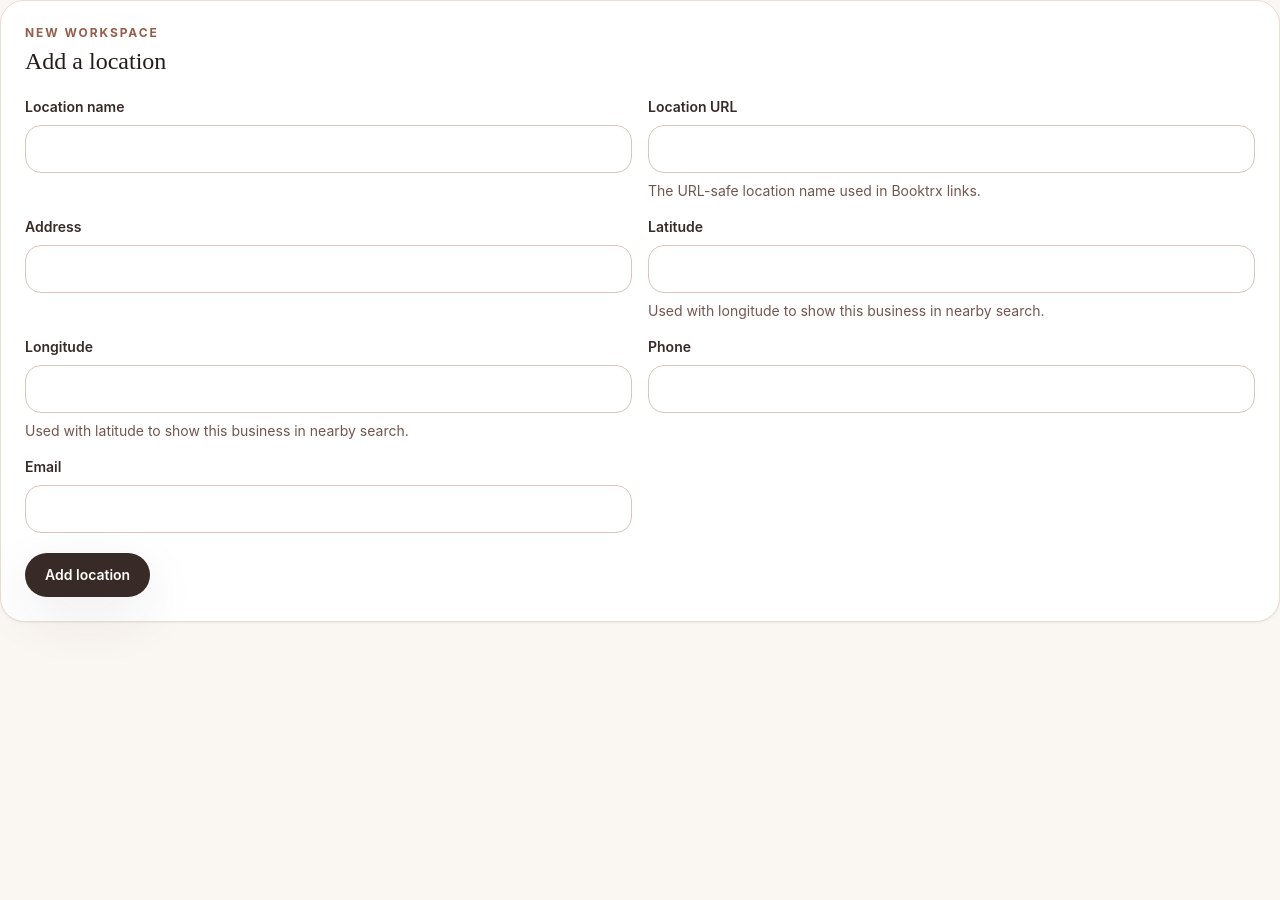
Test: location form feedback › announces field errors semantically and keeps entered values
Type "Rodney Bay" into the field labelled "Location name".
click(328, 149); type("Rodney Bay")  # box [25,125,632,173]
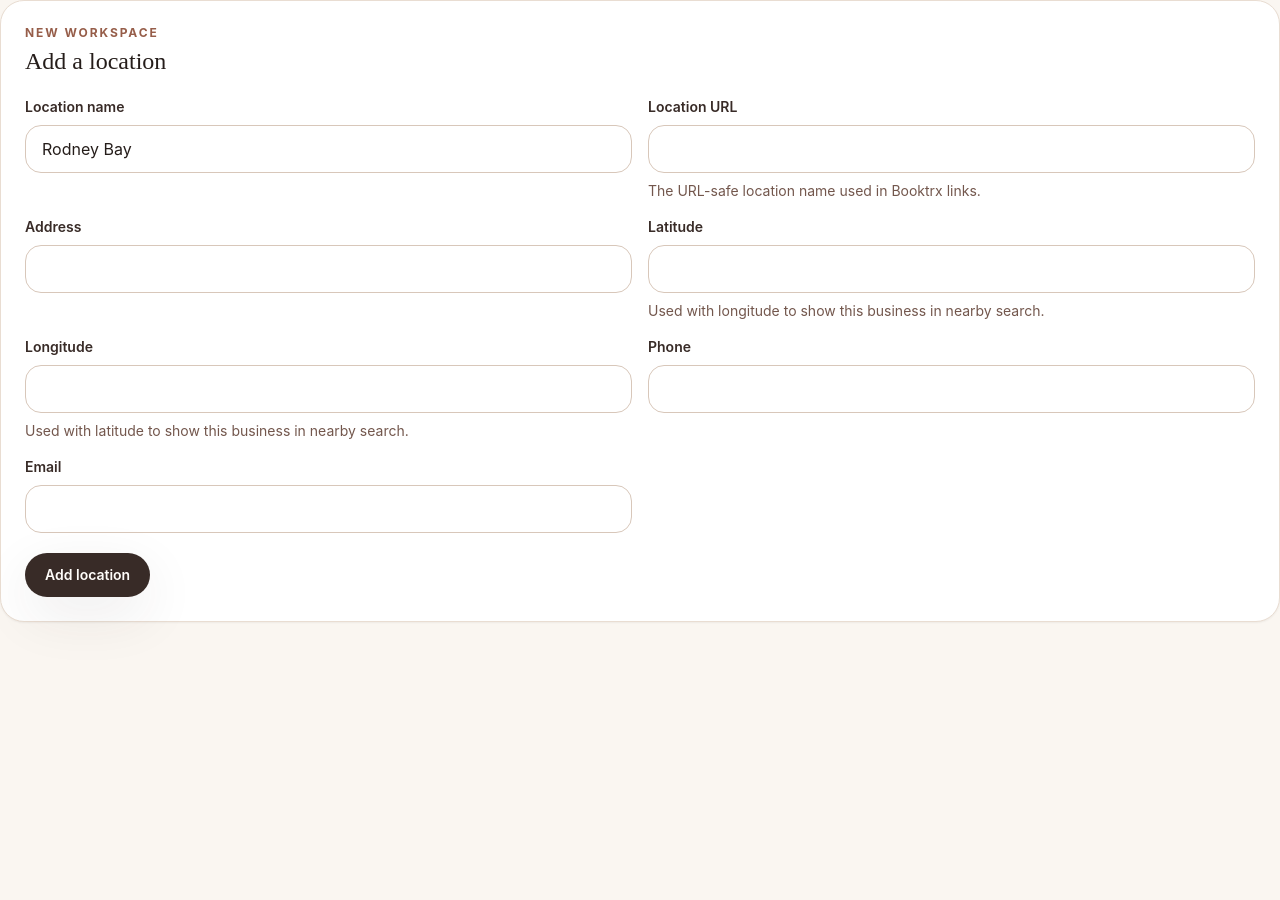
Type "rodney-bay" into the field labelled "Location URL".
click(952, 149); type("rodney-bay")  # box [648,125,1255,173]
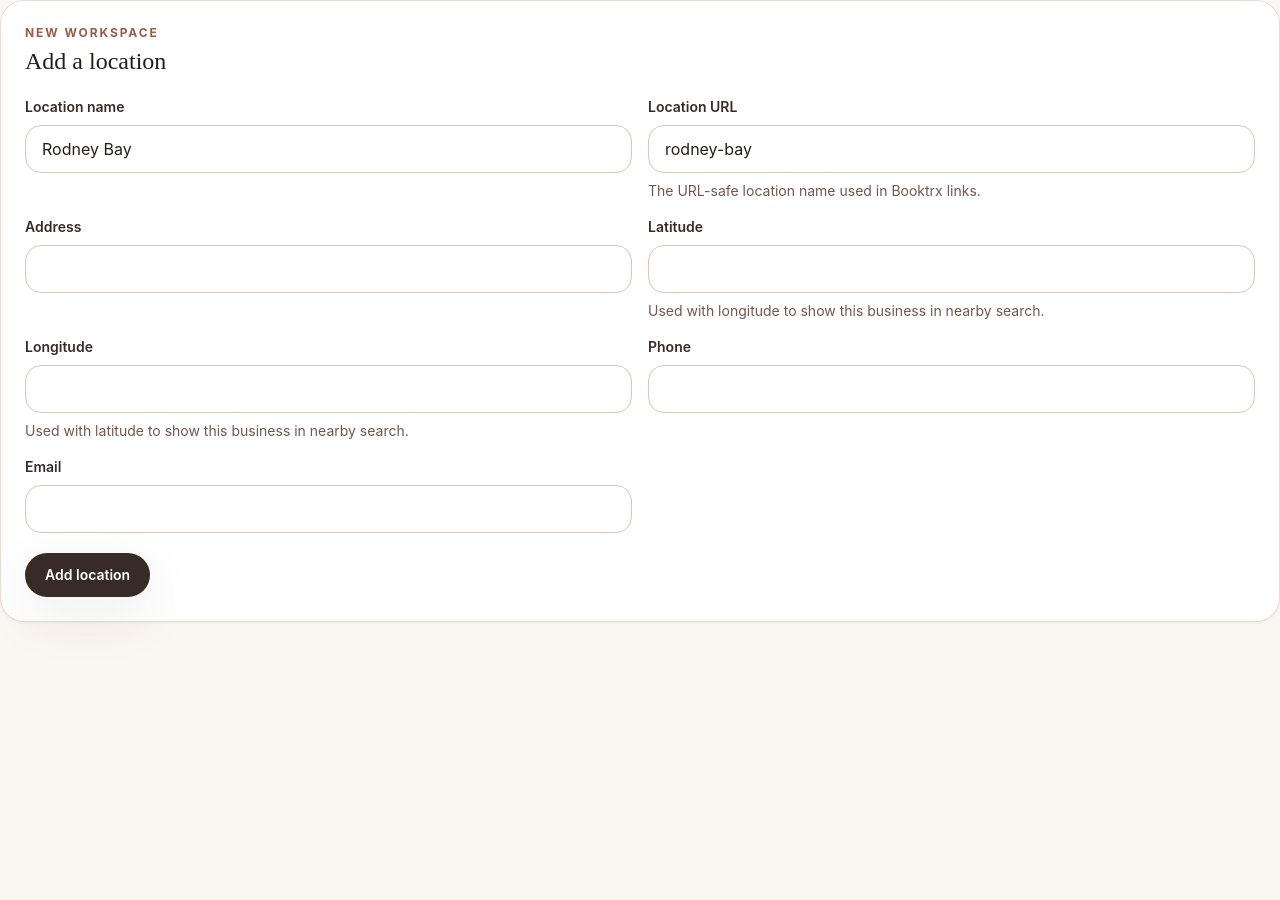
Type "Baywalk Mall" into the field labelled "Address".
click(328, 269); type("Baywalk Mall")  # box [25,245,632,293]
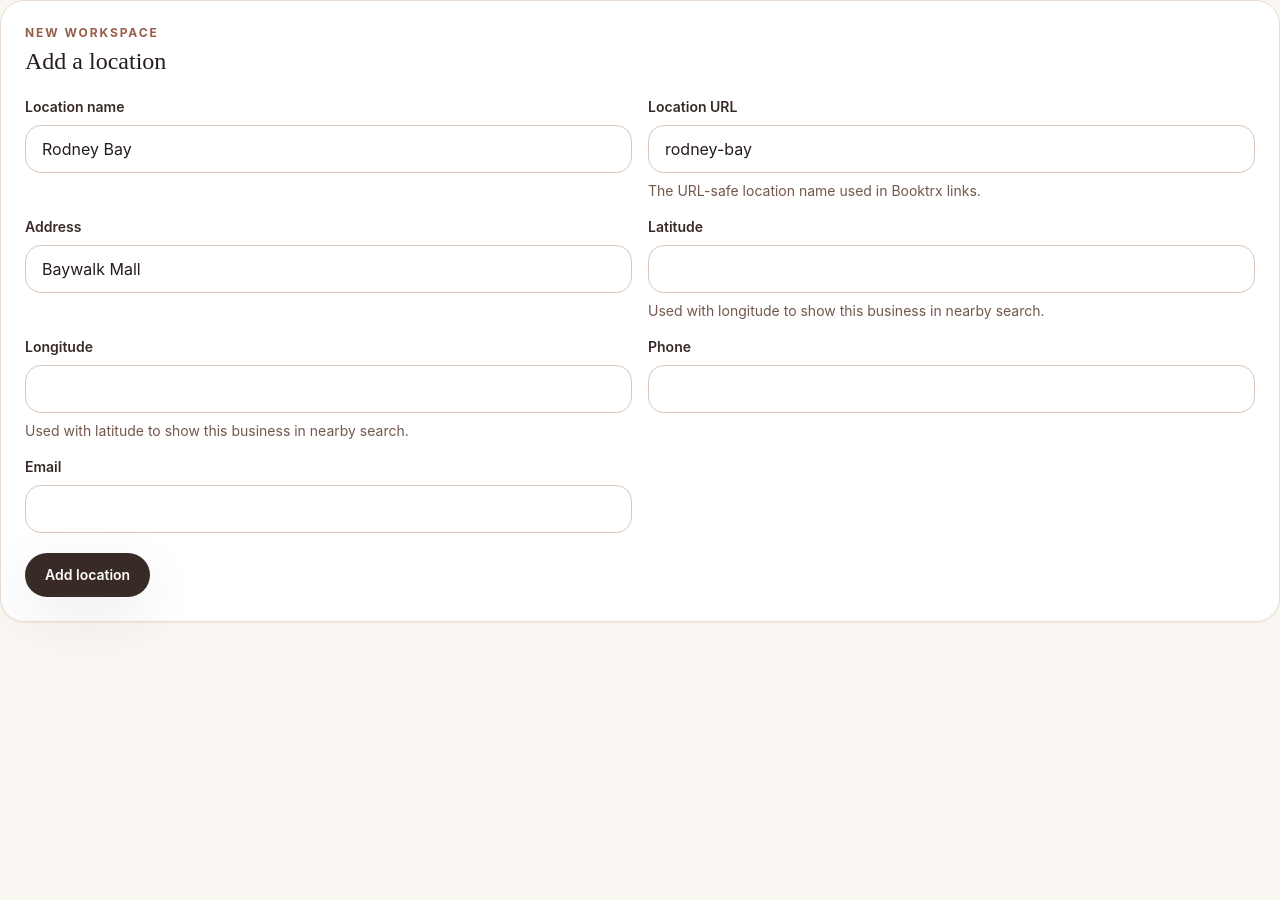
Submit the form named "add location"
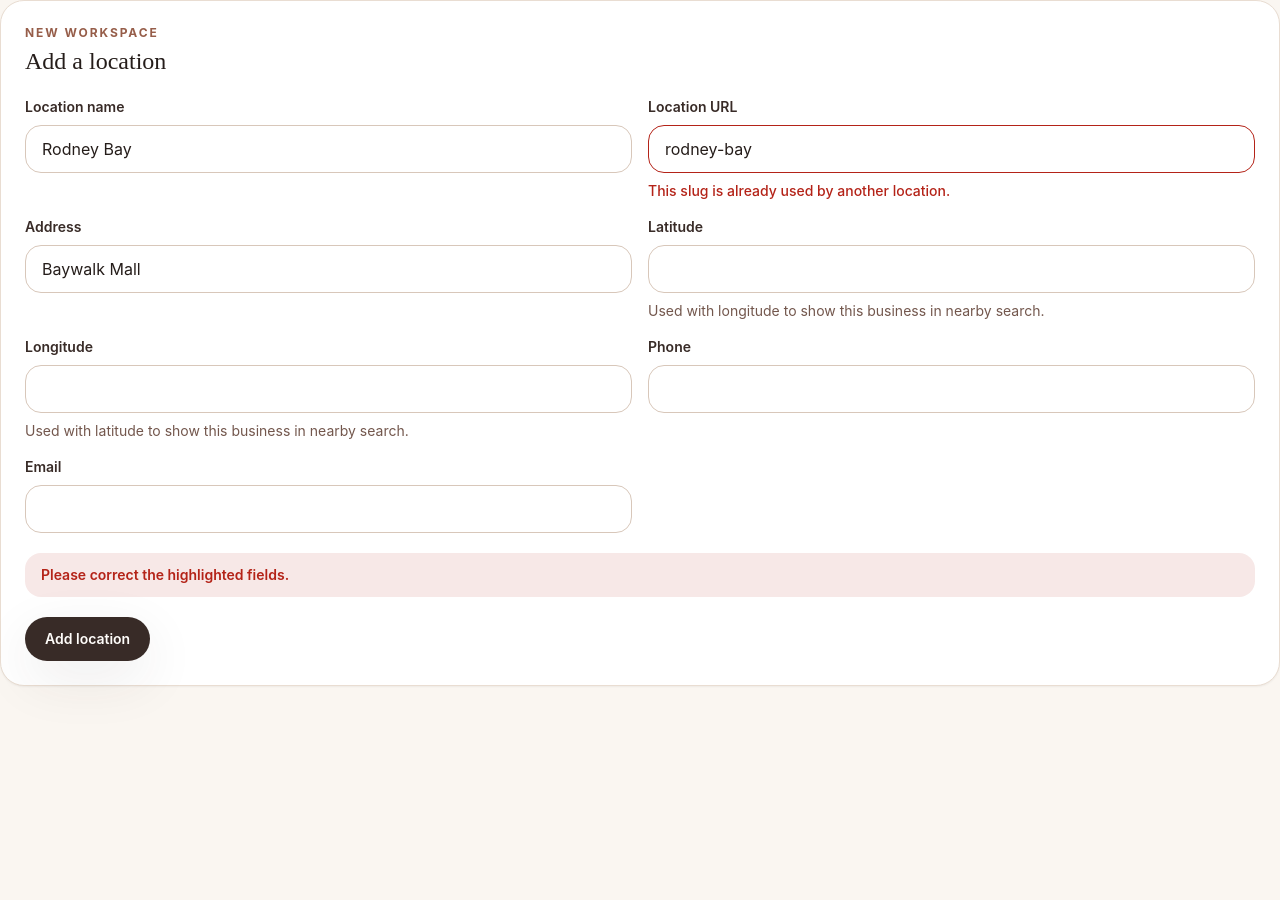
Result: the message reads "Please correct the highlighted fields." at [41,566,289,583]
Result: the text "This slug is already used by another location." is shown at [648,182,950,199]
